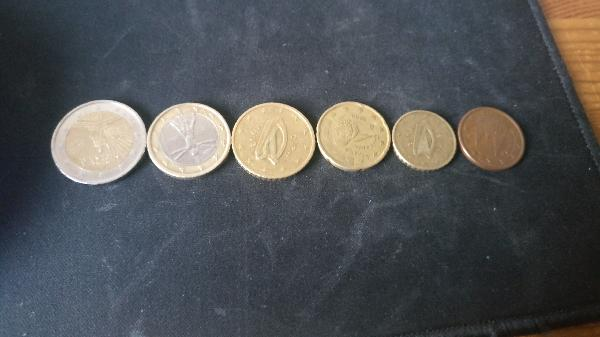Fifty Cent: (229, 102, 316, 178)
Five Cent: (458, 106, 529, 173)
One Euro: (148, 102, 233, 181)
Ten Cent: (390, 108, 458, 172)
Twenty Cent: (318, 100, 391, 171)
Two Euro: (51, 95, 151, 194)
